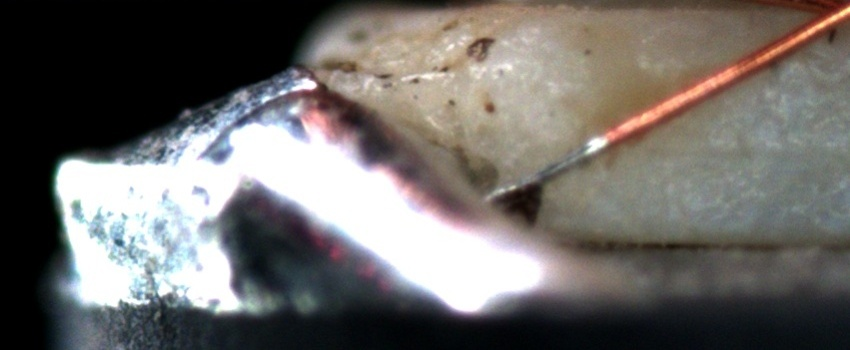DL: (632, 117, 849, 181)
TS: (480, 134, 612, 203)
TTCW: (473, 104, 667, 210)
